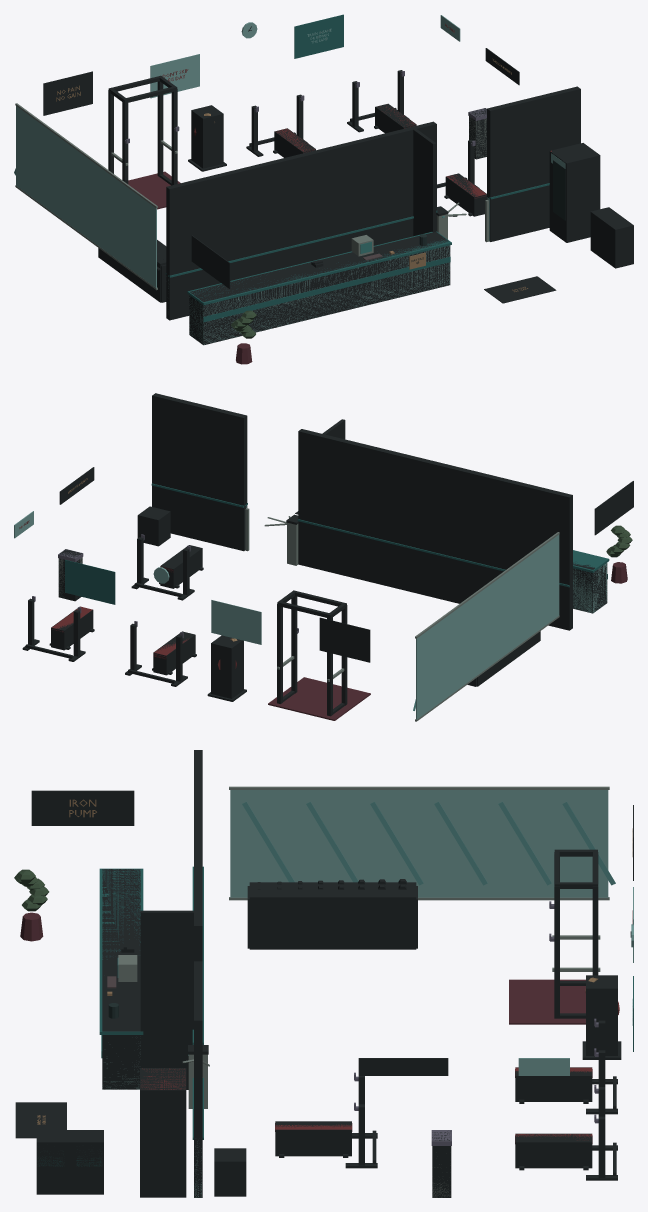
File: decor_sala.glb
3 views of the same model, one above another, from view 1: azimuth 30°, elevation 25°; view 2: azimuth 150°, elevation 25°; view 3: azimuth 270°, elevation 25° (orthographic). The views are drawn at different scales.
Visible parts, largest first — view 1: Coliziune, Decor, Geamuri; view 2: Coliziune, Decor; view 3: Decor, Coliziune.
Boxes of the visible parts, left/top/right/bottom form: Coliziune: left=98, top=70, right=633, bottom=345; Decor: left=14, top=14, right=556, bottom=364; Geamuri: left=553, top=160, right=565, bottom=220; Coliziune: left=28, top=393, right=607, bottom=716; Decor: left=14, top=467, right=633, bottom=721; Decor: left=14, top=786, right=633, bottom=1197; Coliziune: left=36, top=750, right=617, bottom=1197.
Size of the model in its own units: 10.03 by 3.05 by 9.68.
